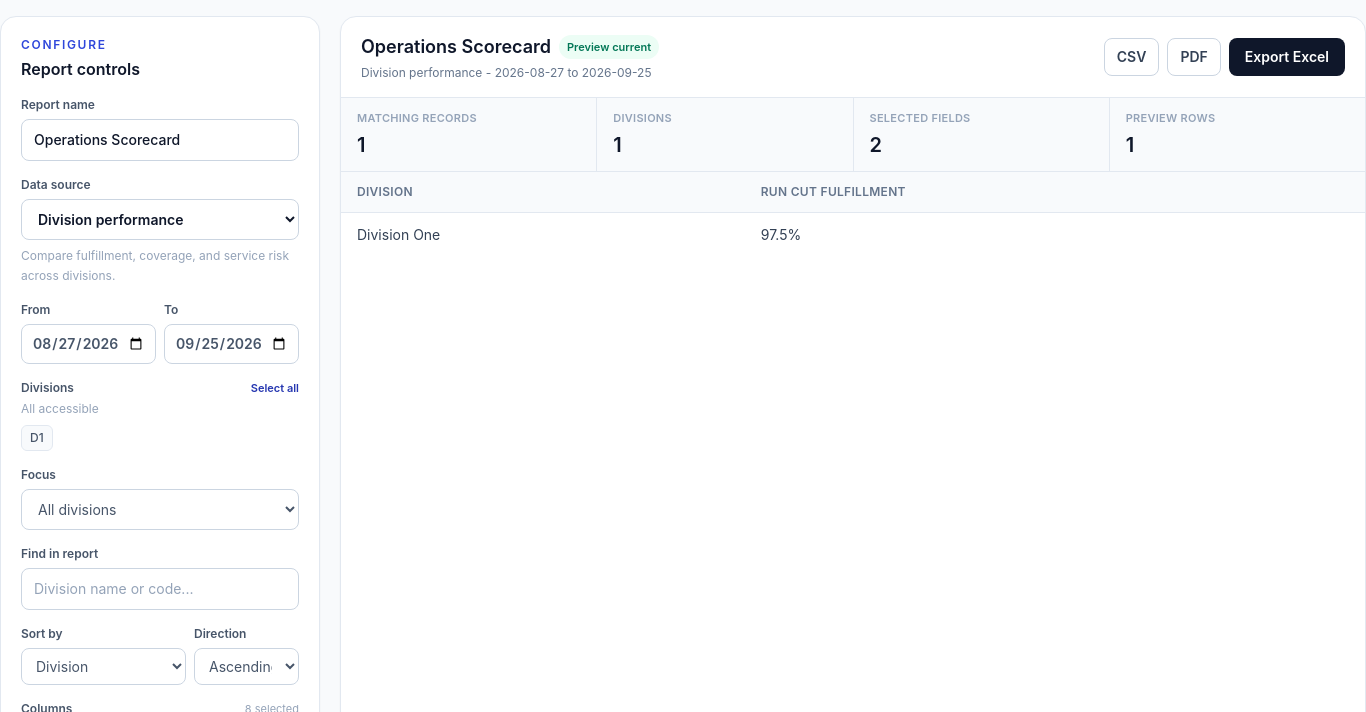
keeps exports disabled until edited report settings are applied
(page scrolled)
Check: the text "97.5%" is shown, box [745,212,1365,256]
Check: the button "Export Excel" is enabled, box [1229,38,1345,76]
Type "2026-08-01" into the date field named "From date" at (88, 344), box [21,324,156,364]
(page scrolled)
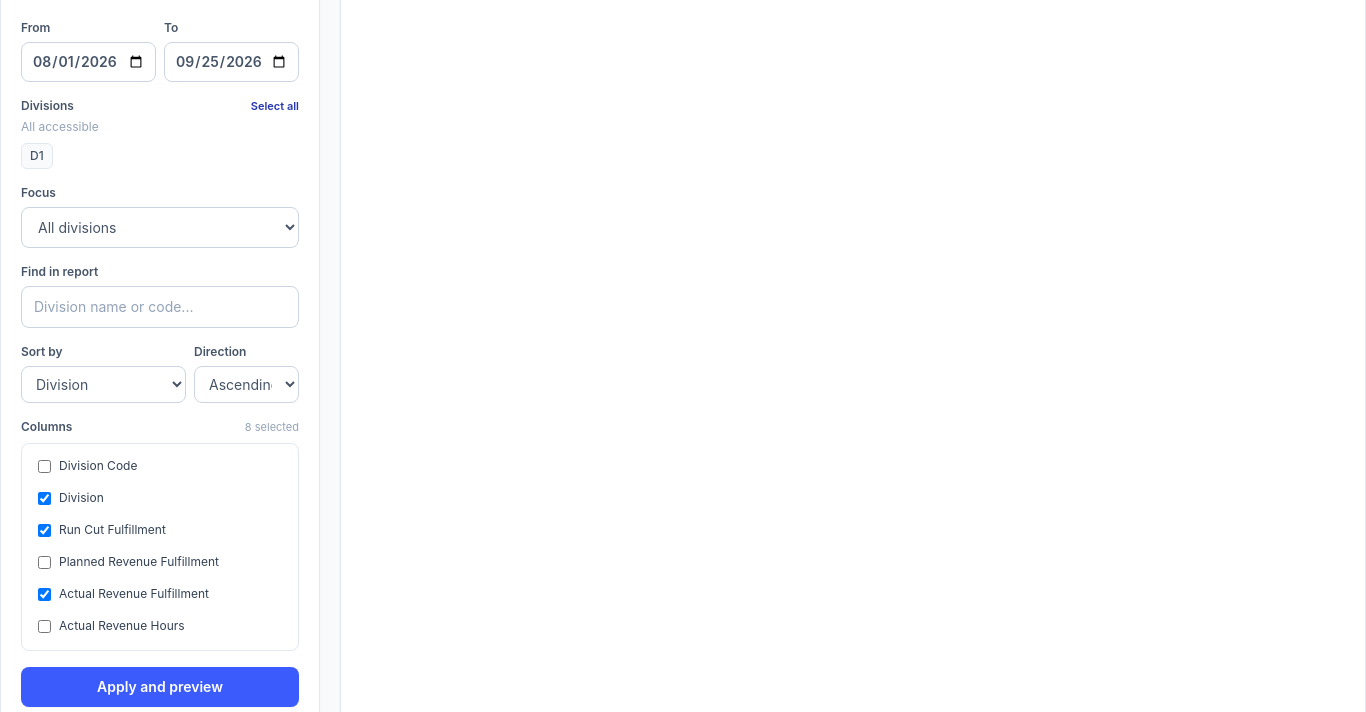
Click the button "Apply and preview" at (160, 687), box [21,667,299,707]
(page scrolled)
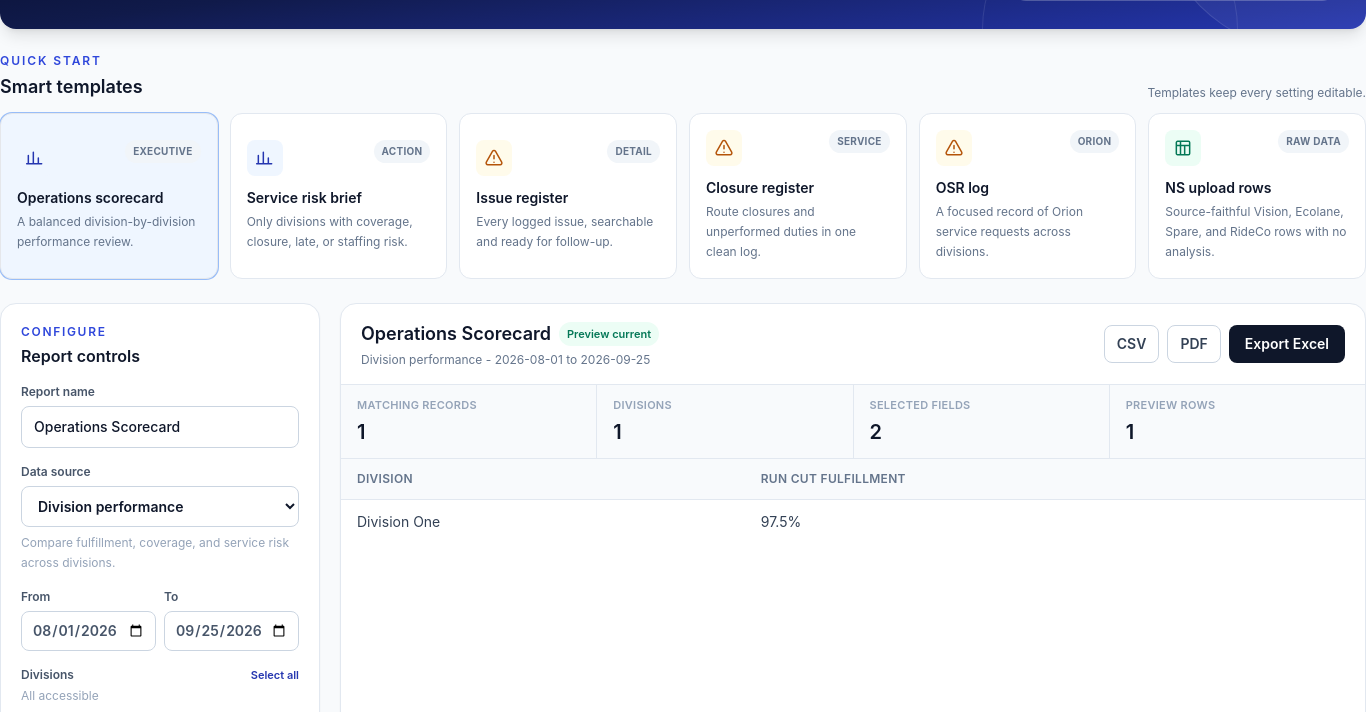
Check: the button "Export Excel" is enabled, box [1229,325,1345,363]
